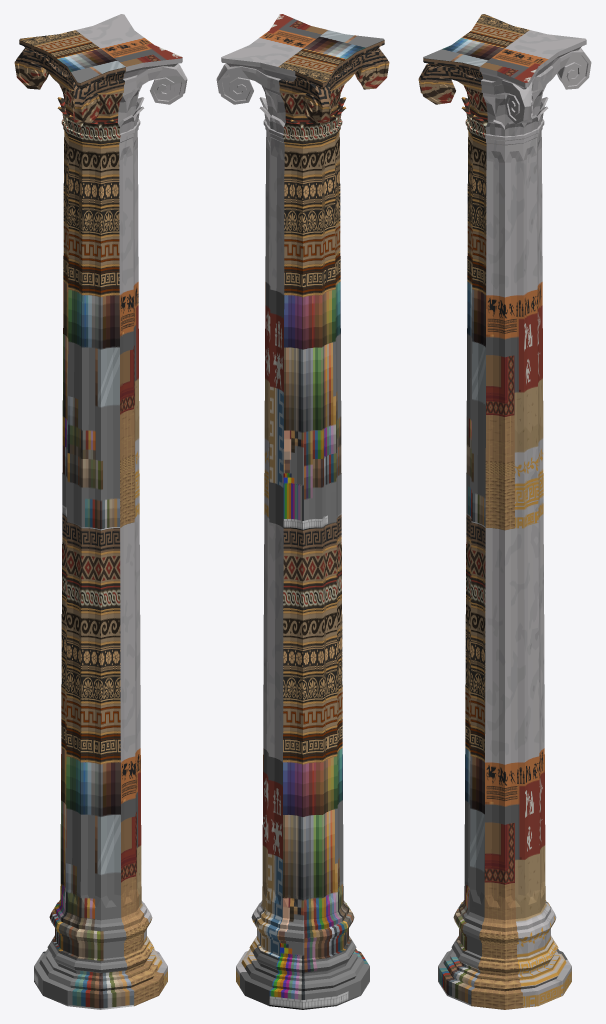
Rendered from ancient_SM_Bld_Pillar_Large_04.gltf.
3 renders of one model, left to right at view 1: azimuth 30°, elevation 25°; view 2: azimuth 150°, elevation 25°; view 3: azimuth 330°, elevation 25°, orthographic.
Visible parts, largest first — view 1: SM_Bld_Pillar_Large_04; view 2: SM_Bld_Pillar_Large_04; view 3: SM_Bld_Pillar_Large_04.
Boxes of the visible parts, bbox=[...] form: SM_Bld_Pillar_Large_04: bbox=[14, 14, 187, 1009]; SM_Bld_Pillar_Large_04: bbox=[216, 14, 389, 1009]; SM_Bld_Pillar_Large_04: bbox=[418, 14, 591, 1009].
Size of the model in its own units: 0.7808 by 6 by 0.7808.
2 materials, 2 textured.
